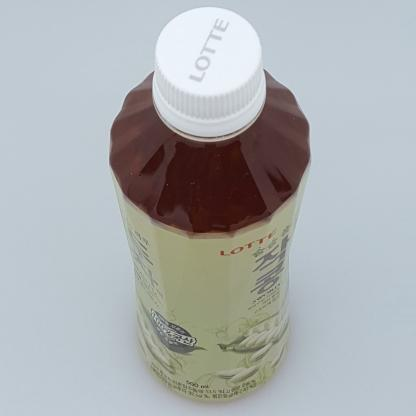--------------500ML: (108, 5, 312, 406)
